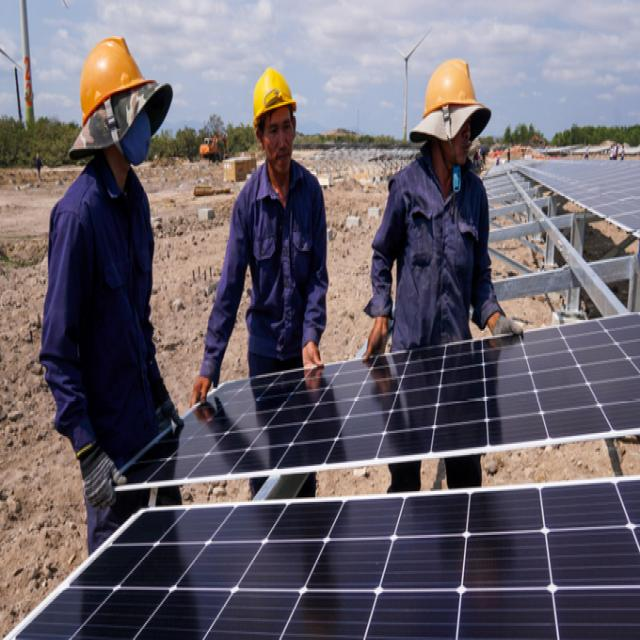clean-solar-panel: (11, 477, 640, 636), (138, 312, 640, 486)
